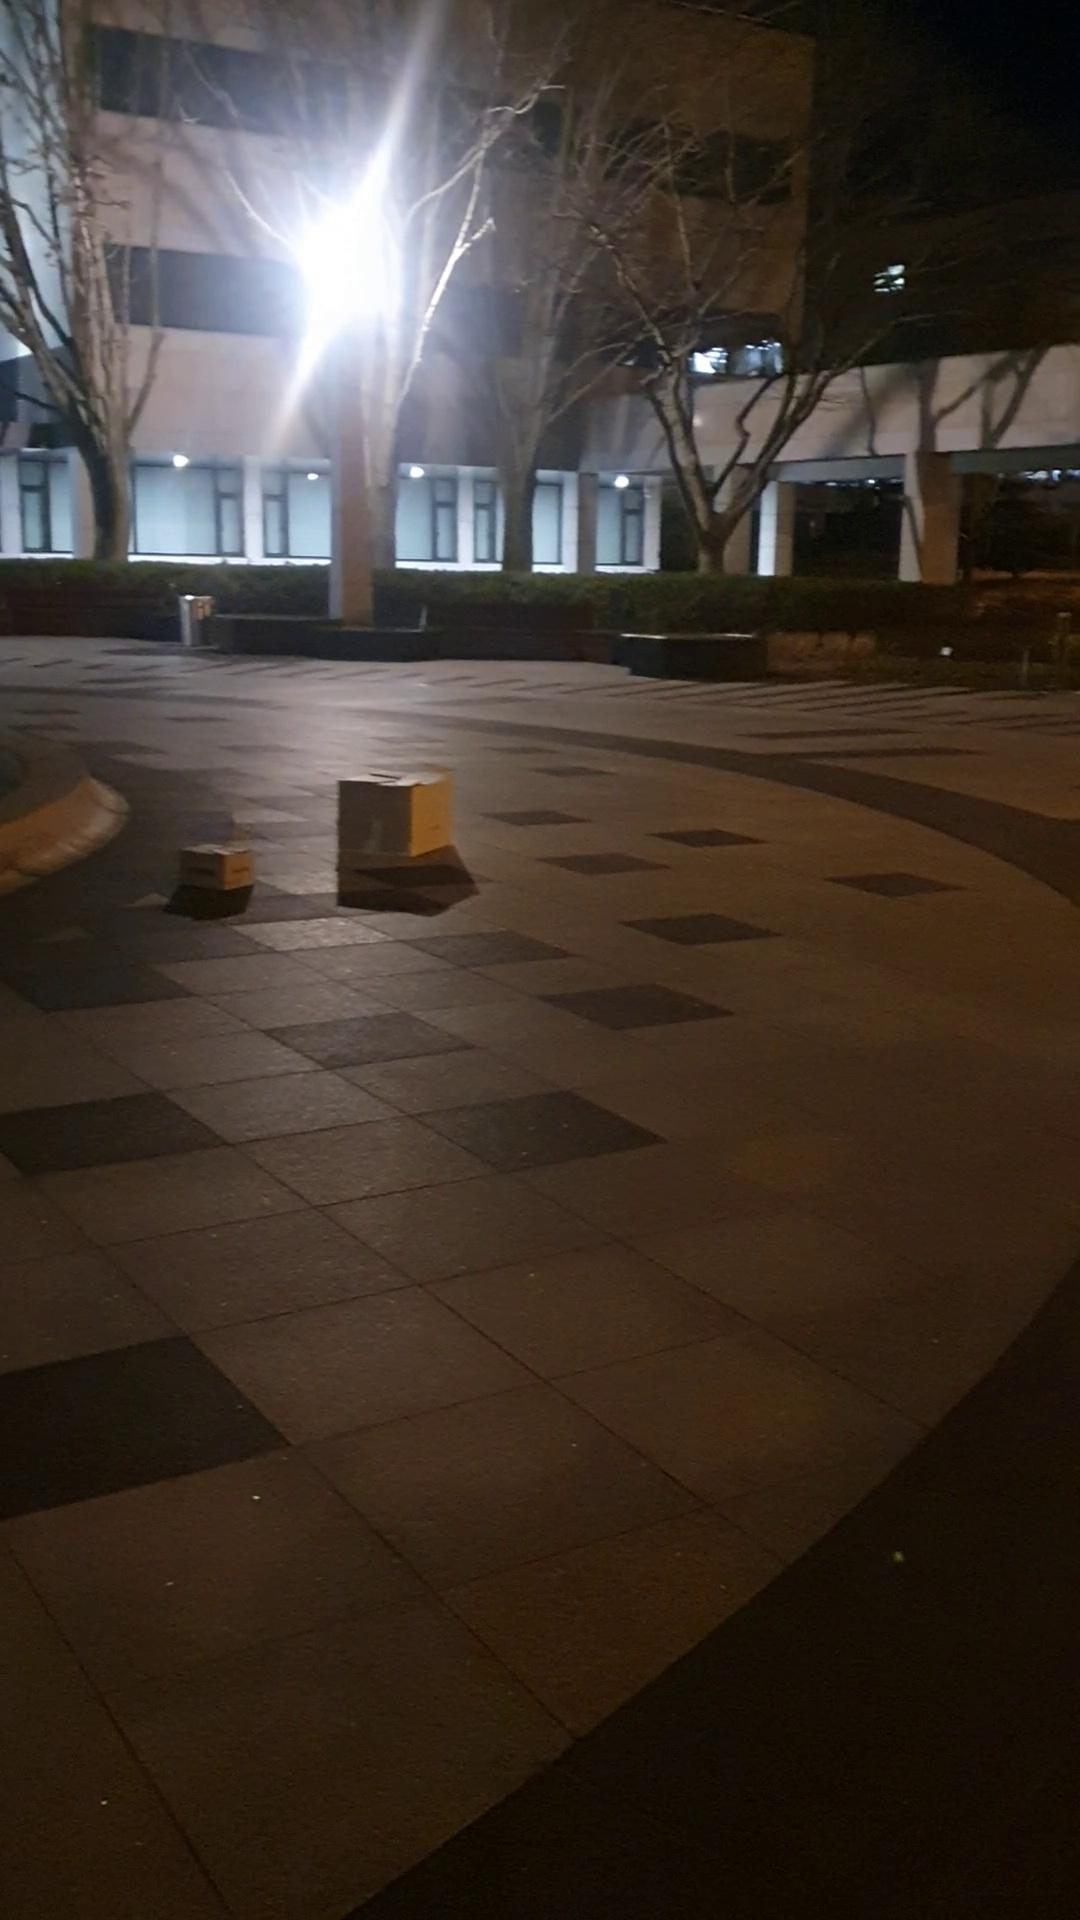Box: (331, 758, 463, 876), (181, 843, 262, 899)
